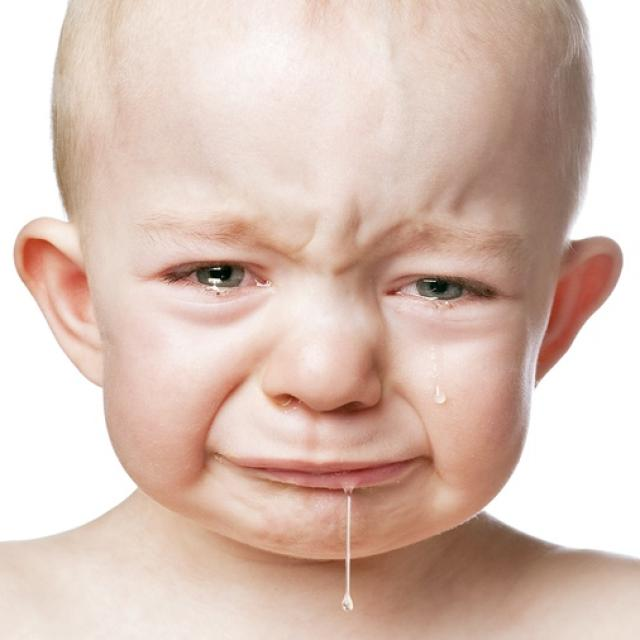Depress: (82, 0, 561, 564)
